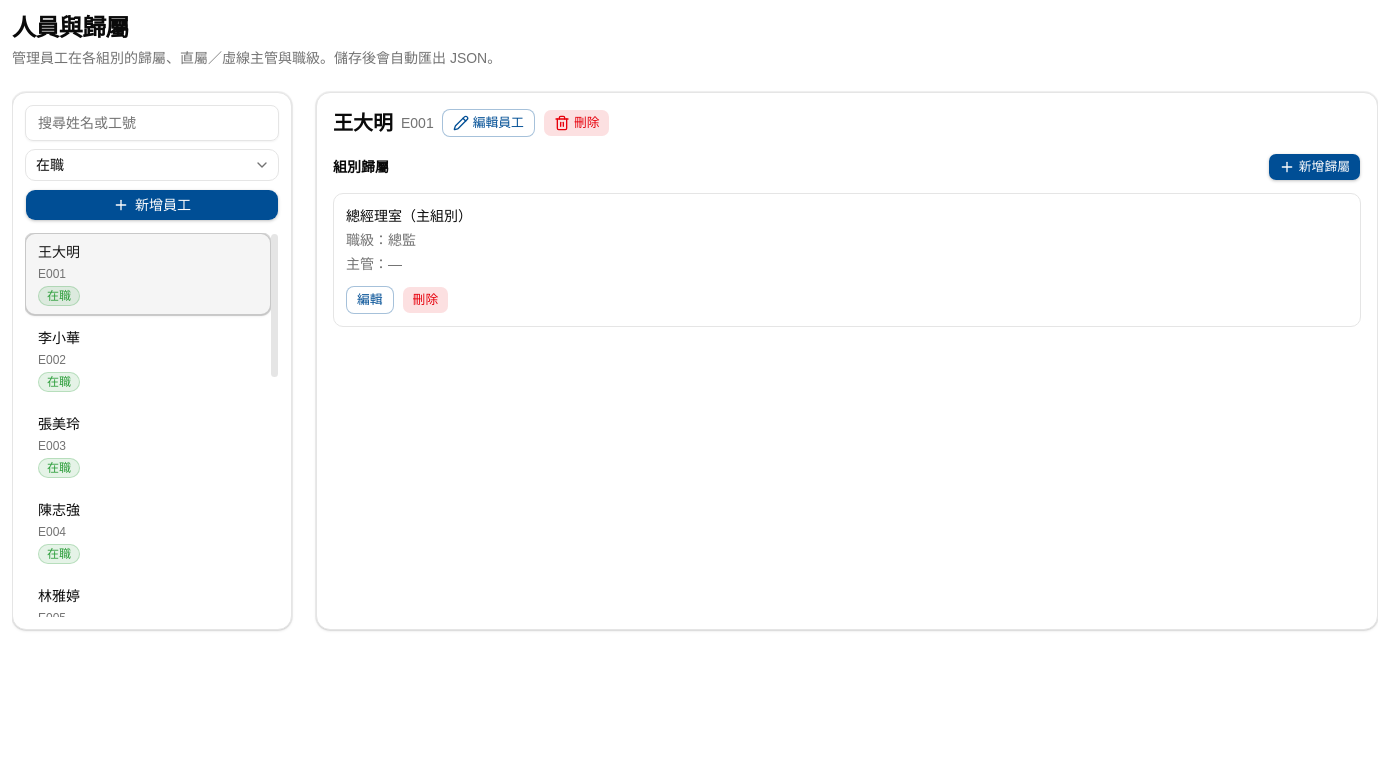
Test: PeoplePage 人員與歸屬 › 點選清單中的其他員工會切換右側詳情
# 點清單中的李小華（清單按鈕）
Click the button "李小華 E002 在職" at [148, 360], box [25,319,271,401]
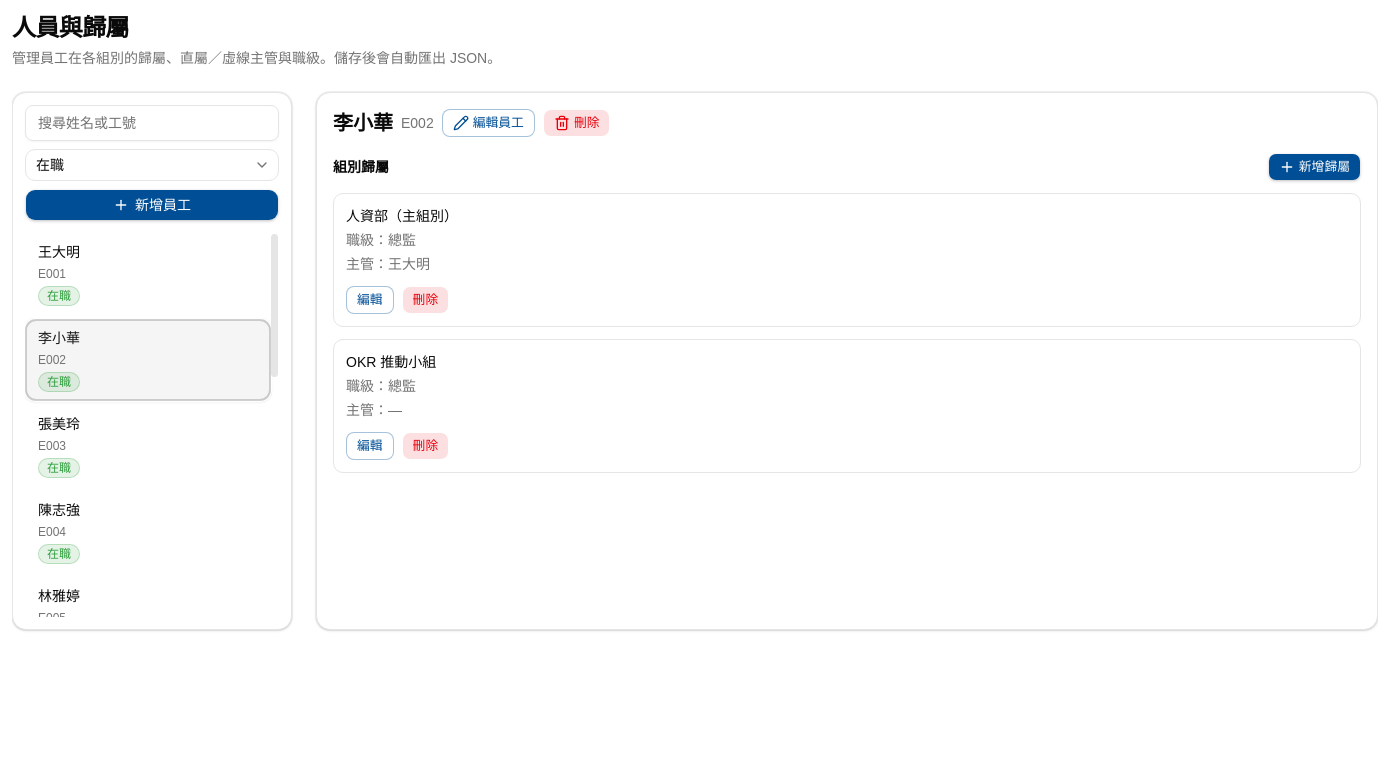
Result: the heading "李小華" is shown at [333,109,393,137]
